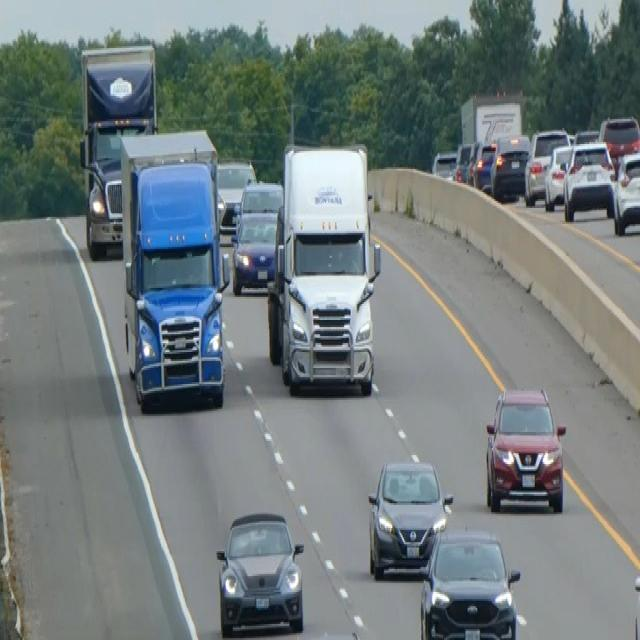car: (419, 526, 520, 638), (215, 511, 304, 636), (484, 384, 566, 514), (366, 457, 453, 579), (562, 138, 615, 220), (230, 210, 279, 295), (524, 126, 570, 206), (216, 156, 256, 233), (489, 131, 530, 201), (612, 149, 639, 235), (598, 114, 639, 170), (543, 142, 572, 210), (238, 180, 283, 218), (472, 139, 496, 190), (453, 141, 476, 183), (431, 150, 456, 180), (465, 139, 480, 183), (572, 128, 599, 144)
lorry: (118, 128, 230, 411), (265, 138, 381, 396), (78, 41, 158, 259)
motorcycle: (631, 572, 639, 638)
